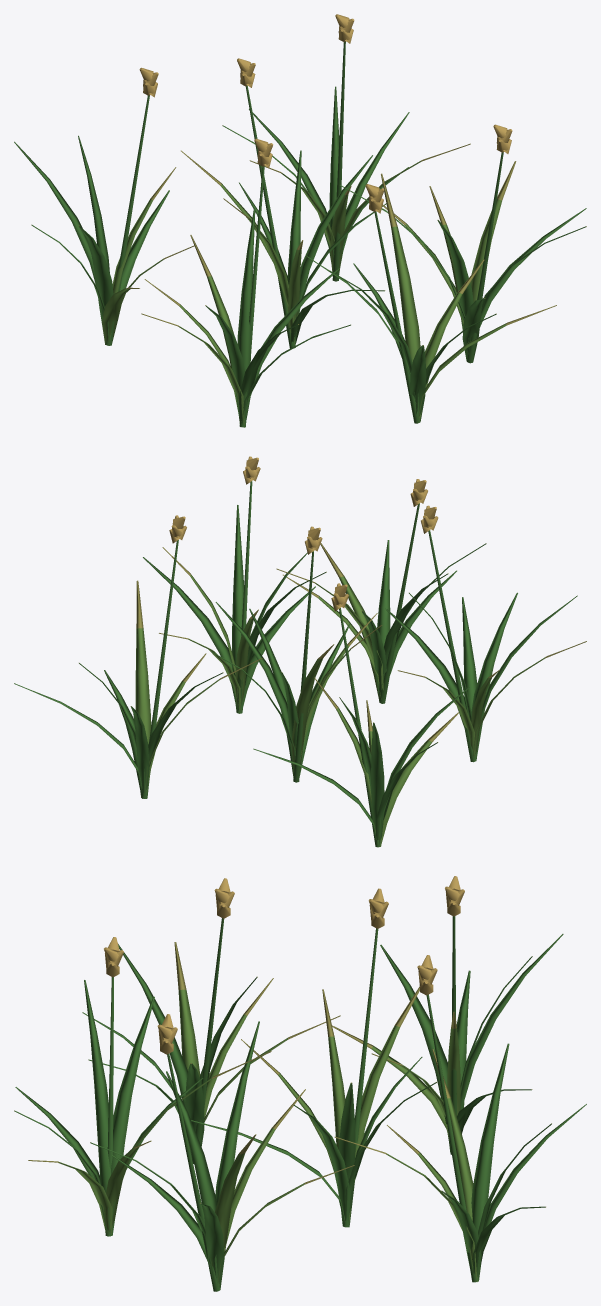
Rendered from Plant_Hills_SlopeGrass_001.glb.
3 views of the same model, one above another, from view 1: azimuth 30°, elevation 25°; view 2: azimuth 150°, elevation 25°; view 3: azimuth 270°, elevation 25° (orthographic). The views are drawn at different scales.
Visible parts, largest first — view 1: HL_SlopeGrass_Body; view 2: HL_SlopeGrass_Body; view 3: HL_SlopeGrass_Body.
Part boxes in pixels (x1,y1,x2,y2): HL_SlopeGrass_Body: [14, 14, 586, 427]; HL_SlopeGrass_Body: [14, 456, 586, 847]; HL_SlopeGrass_Body: [14, 876, 586, 1291].
Size of the model in its own units: 1.35 by 0.8128 by 1.33.
